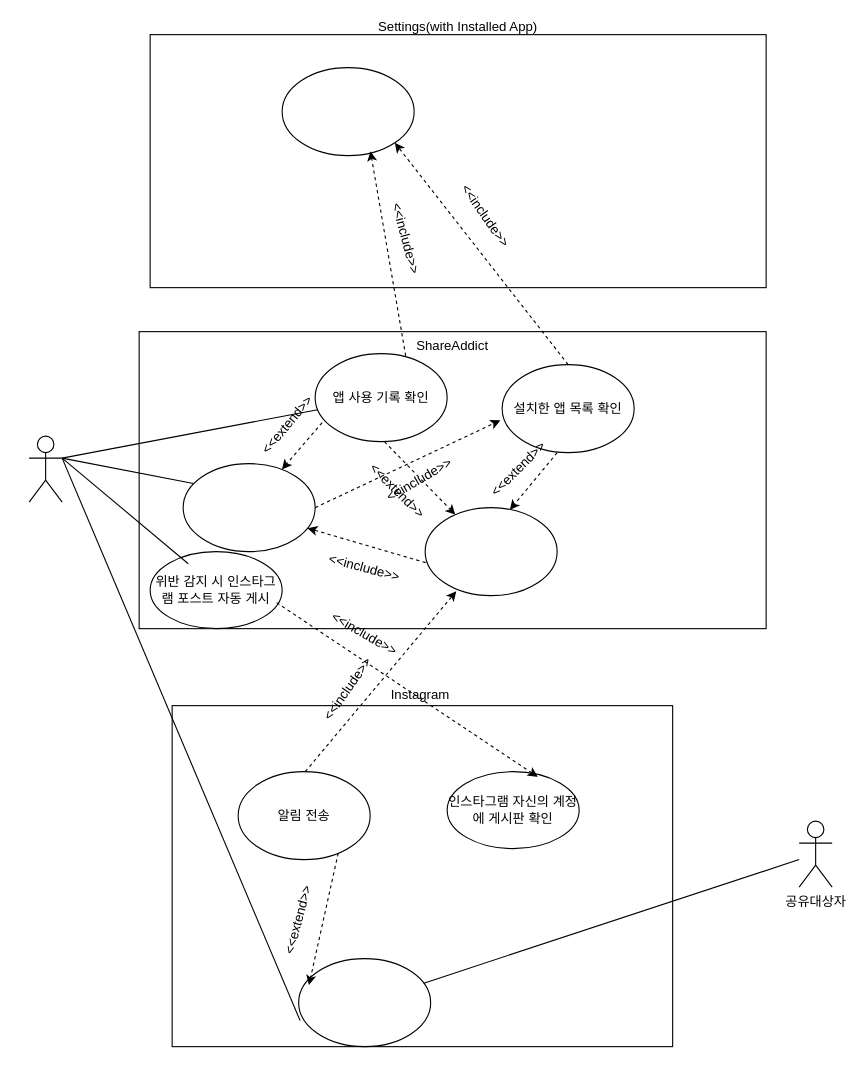
Image size: 865x1085. Some labels were removed from this diagram. The shapes that lost their labels are listed below. From the top down, each one's centre as x and y in pixels, then its label:
At (347,111): "사용자의 설치된 앱 데이터 목록 저장".
At (45,468): "앱 사용자".
At (248,507): "앱 미사용 규칙 설정".
At (490,551): "앱을 사용 시 규칙 위반 감지".
At (364,1002): "알림 내용(텍스트) 확인 및 반응 남기기".
